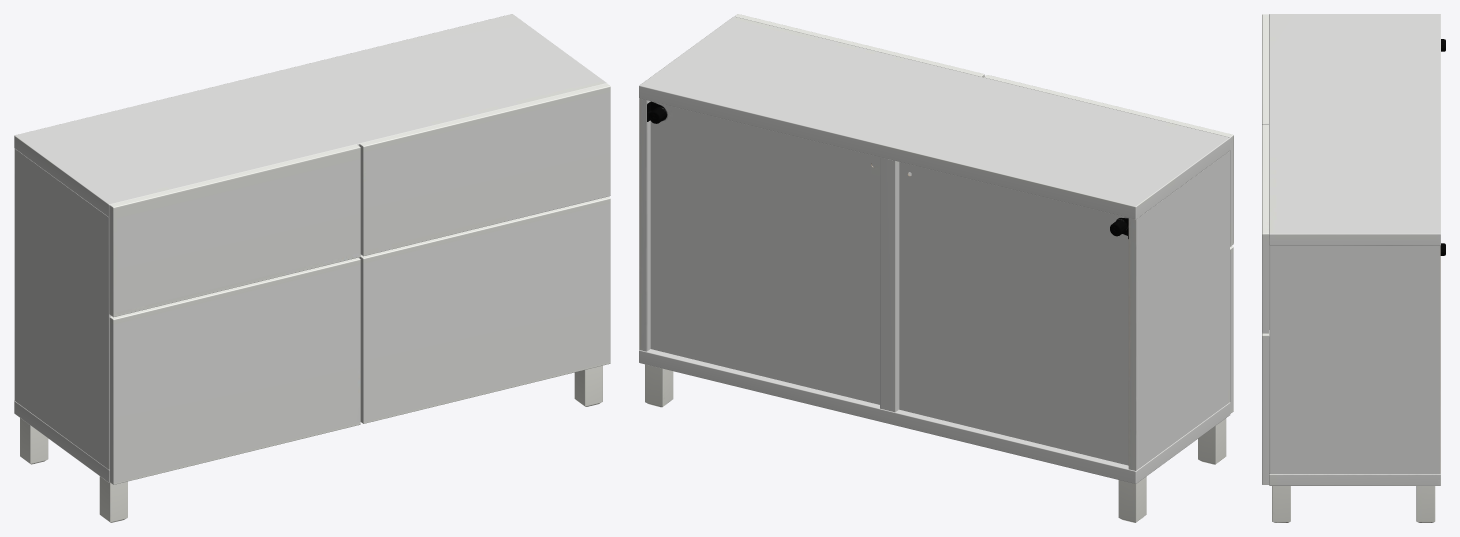
The model's file is besta_kombinacja_regaowa_z_drzw_szuf_99195305.glb.
3 views of the same model, side by side, from view 1: azimuth 30°, elevation 25°; view 2: azimuth 150°, elevation 25°; view 3: azimuth 270°, elevation 25° (orthographic). The views are drawn at different scales.
Visible parts, largest first — view 1: besta_kombinacja_regaowa_z_drzw_szuf_99195305; view 2: besta_kombinacja_regaowa_z_drzw_szuf_99195305; view 3: besta_kombinacja_regaowa_z_drzw_szuf_99195305.
Boxes of the visible parts, x1,y1,x2,y2 form: besta_kombinacja_regaowa_z_drzw_szuf_99195305: (14, 14, 610, 522); besta_kombinacja_regaowa_z_drzw_szuf_99195305: (639, 14, 1233, 522); besta_kombinacja_regaowa_z_drzw_szuf_99195305: (1262, 14, 1445, 522).
Size of the model in its own units: 1.2 by 0.7431 by 0.4233.
Materials: 1 (1 with a texture image).
